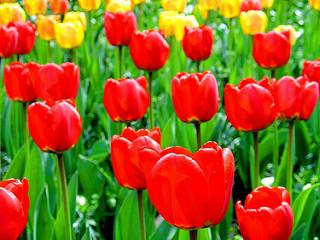tulip: (144, 140, 235, 230), (234, 185, 293, 240), (112, 128, 160, 194), (28, 98, 80, 152), (224, 76, 274, 130), (171, 70, 221, 123), (33, 58, 80, 104), (270, 73, 318, 118), (0, 178, 33, 239), (104, 78, 149, 121), (130, 30, 170, 72), (253, 30, 293, 67), (5, 61, 41, 101), (10, 22, 36, 53), (296, 129, 296, 129)
